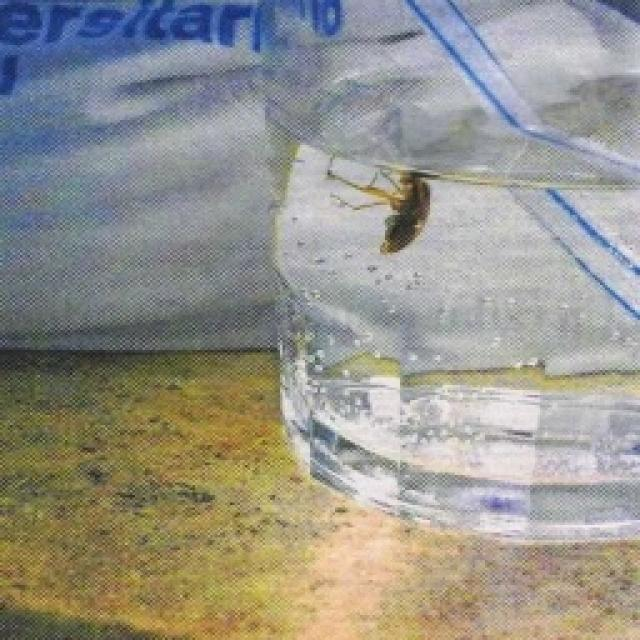cockroach: (319, 149, 439, 259)
